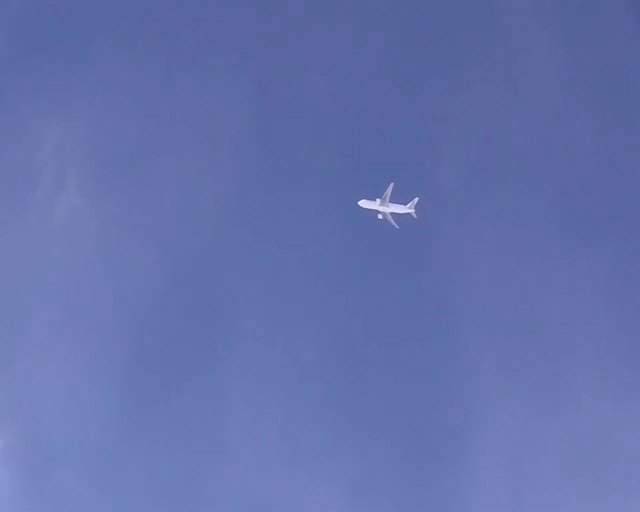AIRPLANE: (357, 182, 419, 229)
